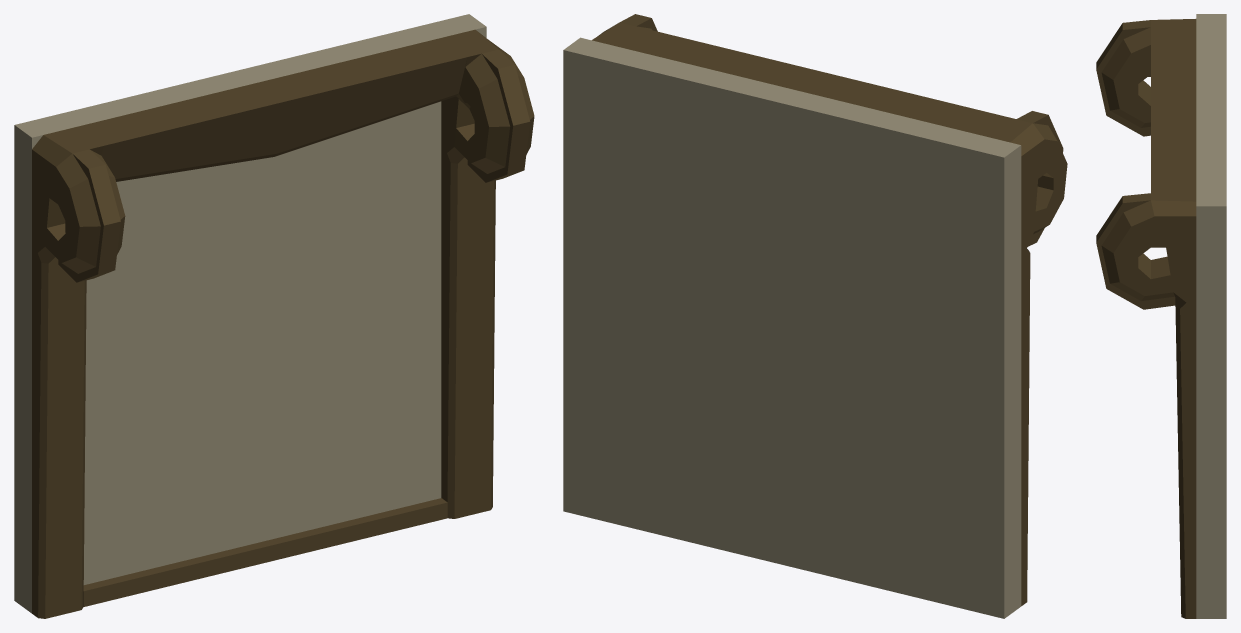
Rendered from fantasy_wall_2.fbx.
3 views of the same model, side by side, from view 1: azimuth 30°, elevation 25°; view 2: azimuth 150°, elevation 25°; view 3: azimuth 270°, elevation 25° (orthographic). The views are drawn at different scales.
Parts seen in each view (by area): view 1: Cube.013; view 2: Cube.013; view 3: Cube.013.
Boxes of the visible parts, box(x1,y1,x2,y2) form: Cube.013: box(14, 14, 534, 618); Cube.013: box(563, 14, 1067, 618); Cube.013: box(1096, 14, 1226, 618).
Size of the model in its own units: 300 by 300 by 86.
